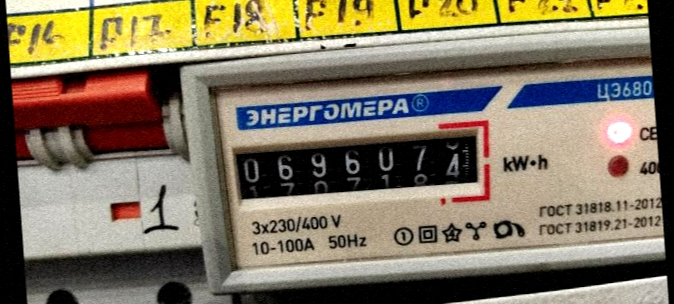0: (241, 155, 264, 185), (377, 143, 397, 173), (277, 153, 295, 180)
4: (444, 151, 463, 180)
6: (342, 145, 362, 176)
7: (410, 141, 430, 171)
9: (309, 149, 329, 179)
screen: (218, 116, 497, 219)
